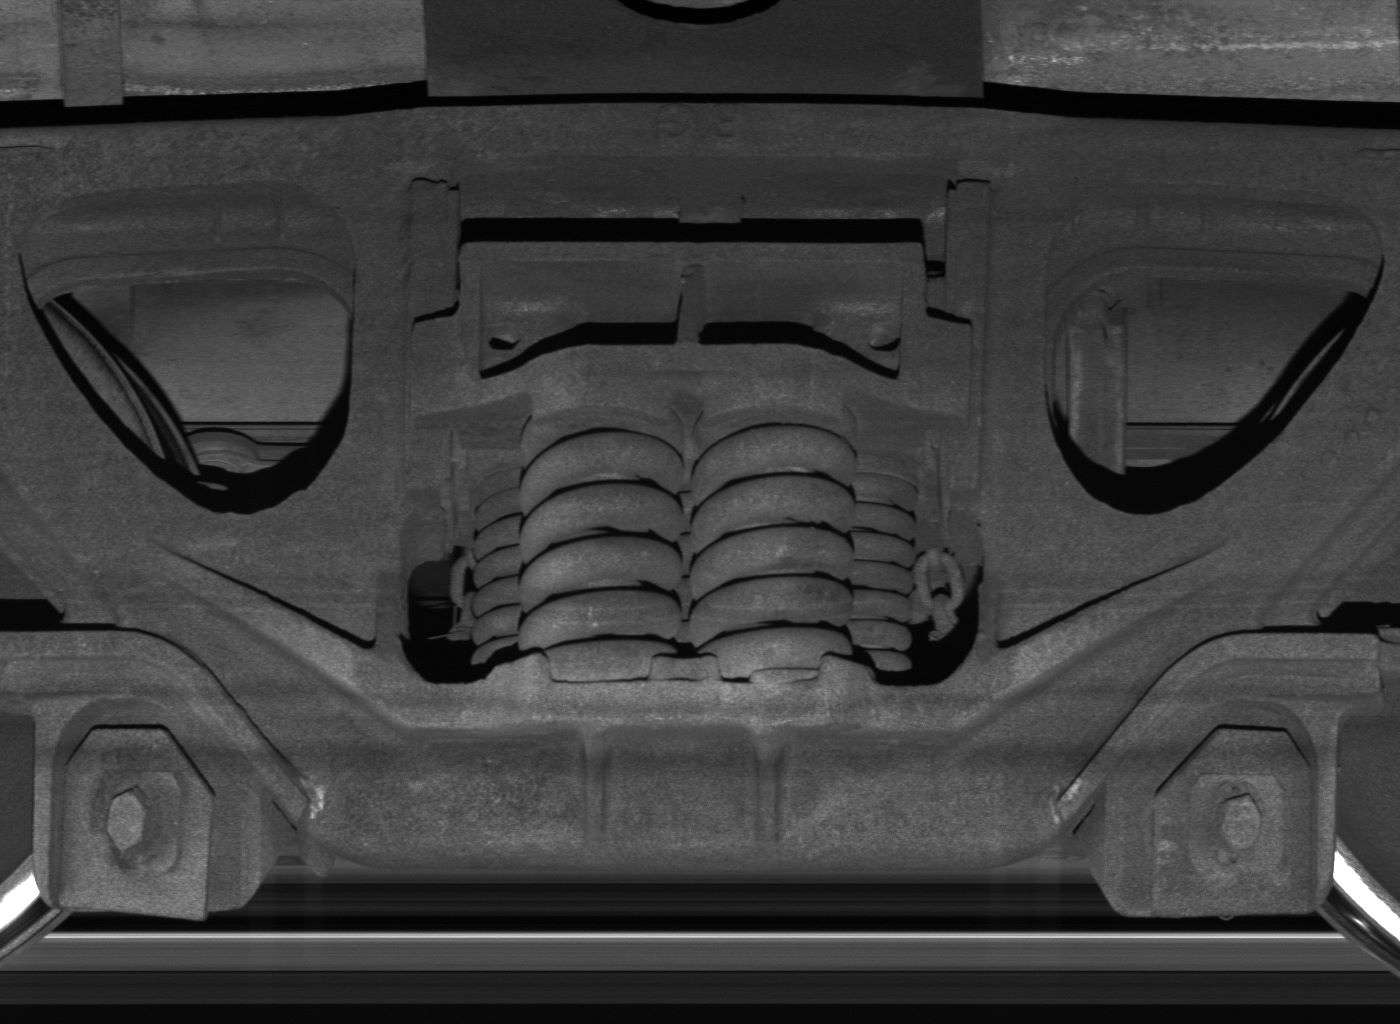normal: (30, 699, 267, 917), (1107, 702, 1332, 916)
